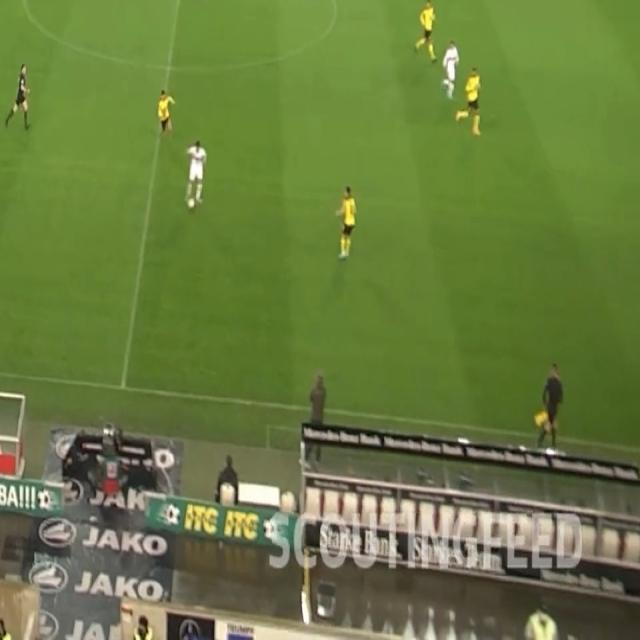ball: (188, 194, 195, 210)
